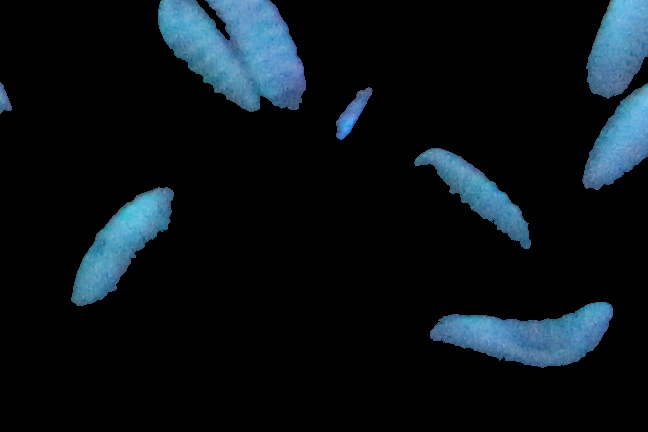larvae: (68, 180, 178, 312), (421, 308, 612, 371), (421, 148, 529, 258), (197, 1, 304, 110), (158, 1, 252, 108), (583, 84, 648, 188), (583, 1, 648, 100)
